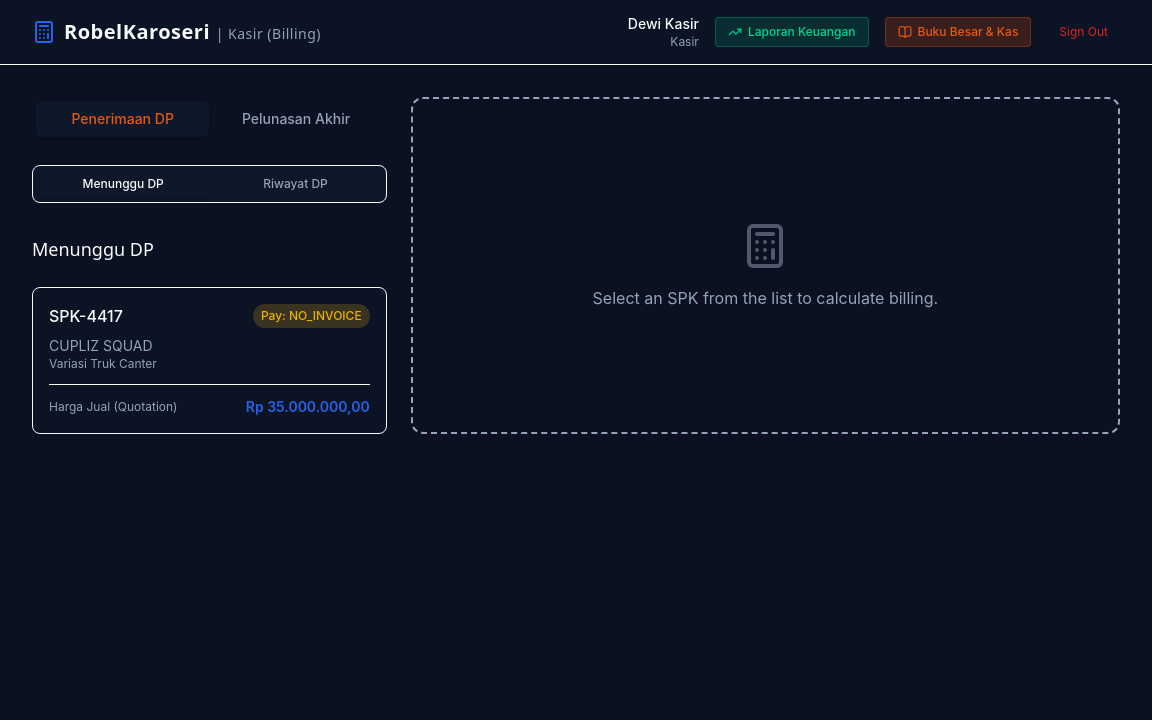
Test: Component: KasirDashboard (DP History Sub-Tab & Printable Receipt) › displays DRAFT SPK with PARTIAL allocation in Menunggu DP and isolates it from paid ACTIVE SPK on same vehicle plate
Expected: the heading "SPK-4417" is shown, [49,304,123,328]
Expected: the text "Variasi Truk Canter" is shown, [49,356,157,371]
Now switch to Riwayat DP sub-tab: SPK-9519 MUST be visible
Click the button "Riwayat DP" at (295, 184), box [209,170,382,198]
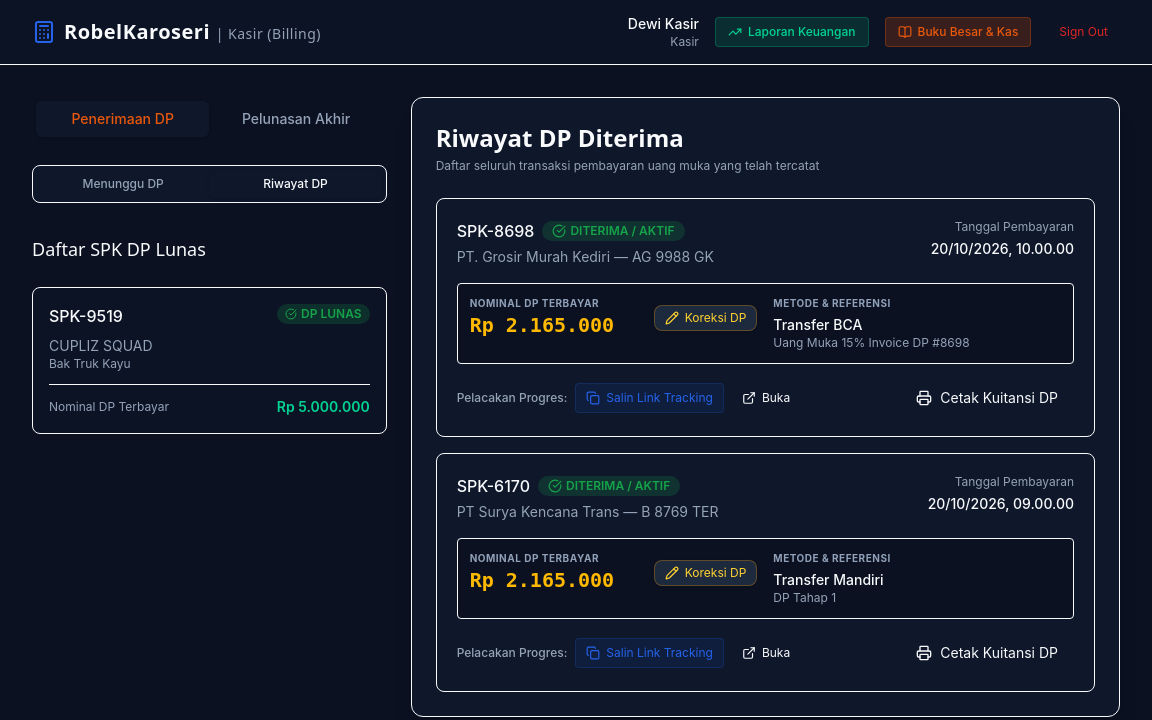
Result: the heading "SPK-9519" is shown at [49,304,123,328]
Result: the heading "SPK-4417" is gone
